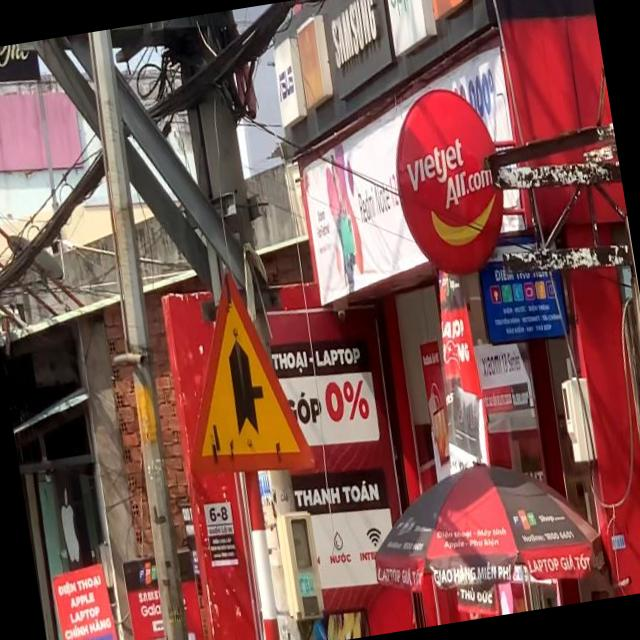W-207b: (163, 264, 317, 492)
